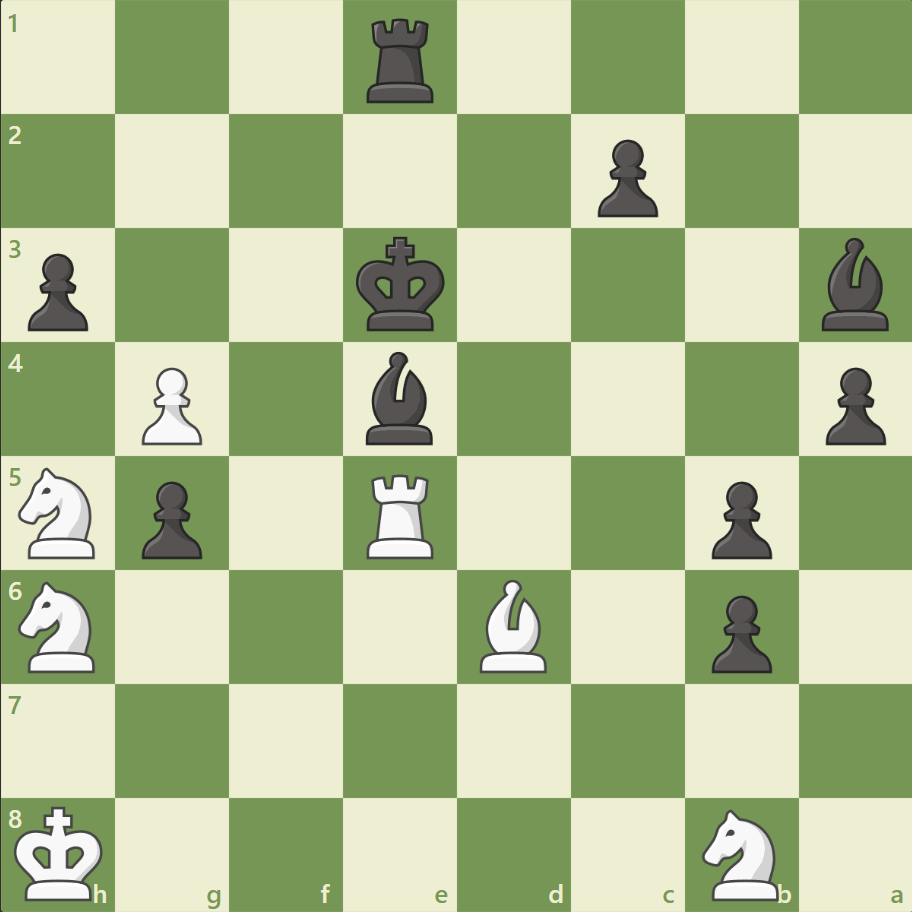B: (471, 574, 555, 676)
K: (11, 798, 111, 906)
N: (11, 461, 108, 564), (692, 802, 789, 904), (11, 575, 108, 677)
P: (133, 359, 208, 450)
R: (360, 466, 442, 563)
b: (812, 233, 896, 336), (358, 347, 442, 449)
k: (351, 231, 451, 339)
p: (701, 586, 776, 677), (701, 473, 776, 564), (133, 473, 208, 564), (20, 246, 95, 337), (815, 359, 889, 450), (588, 132, 662, 223)
r: (360, 12, 442, 109)
